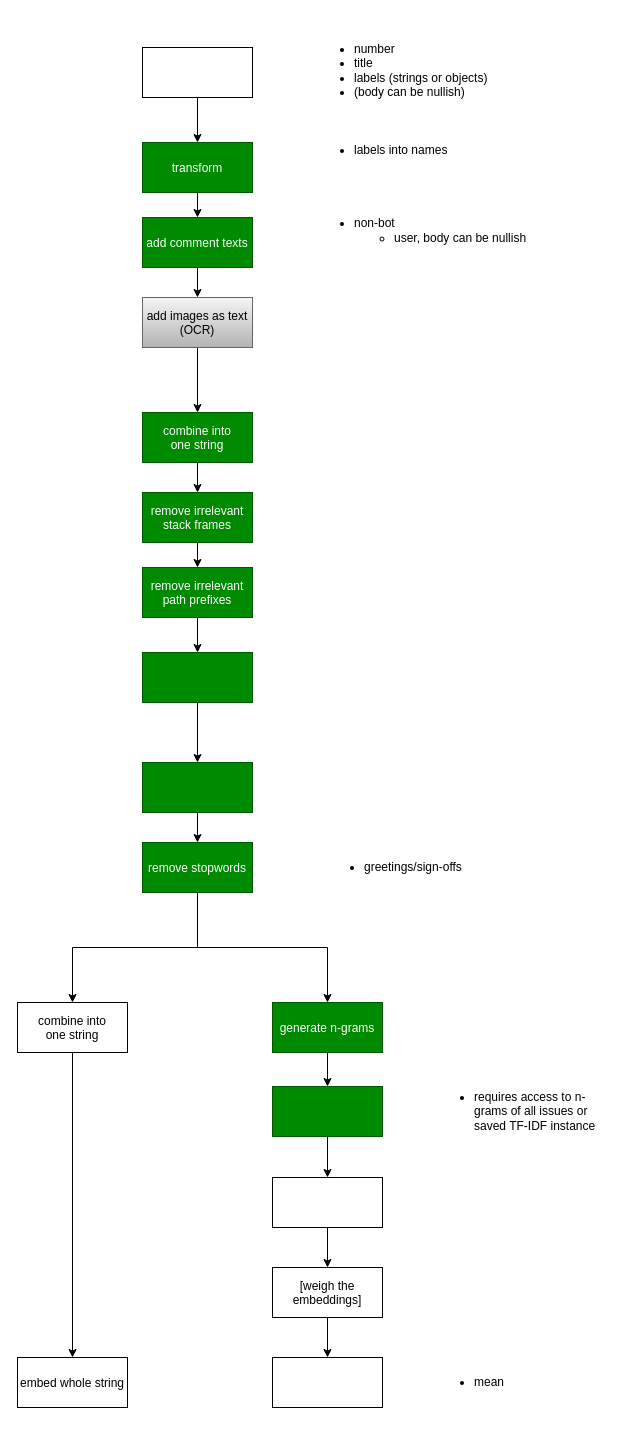
Image size: 630x1439. Some labels were removed from this diagram. The centre of each missing label's shape, as x and y in pixels:
"combine into one embedding" belongs at point 327,1382.
"embed individual n-grams" belongs at point 327,1202.
"filter using TF-IDF" belongs at point 327,1111.
"get and validate issue" belongs at point 197,72.
"remove code fences" belongs at point 197,677.
"tokenize" belongs at point 197,787.
